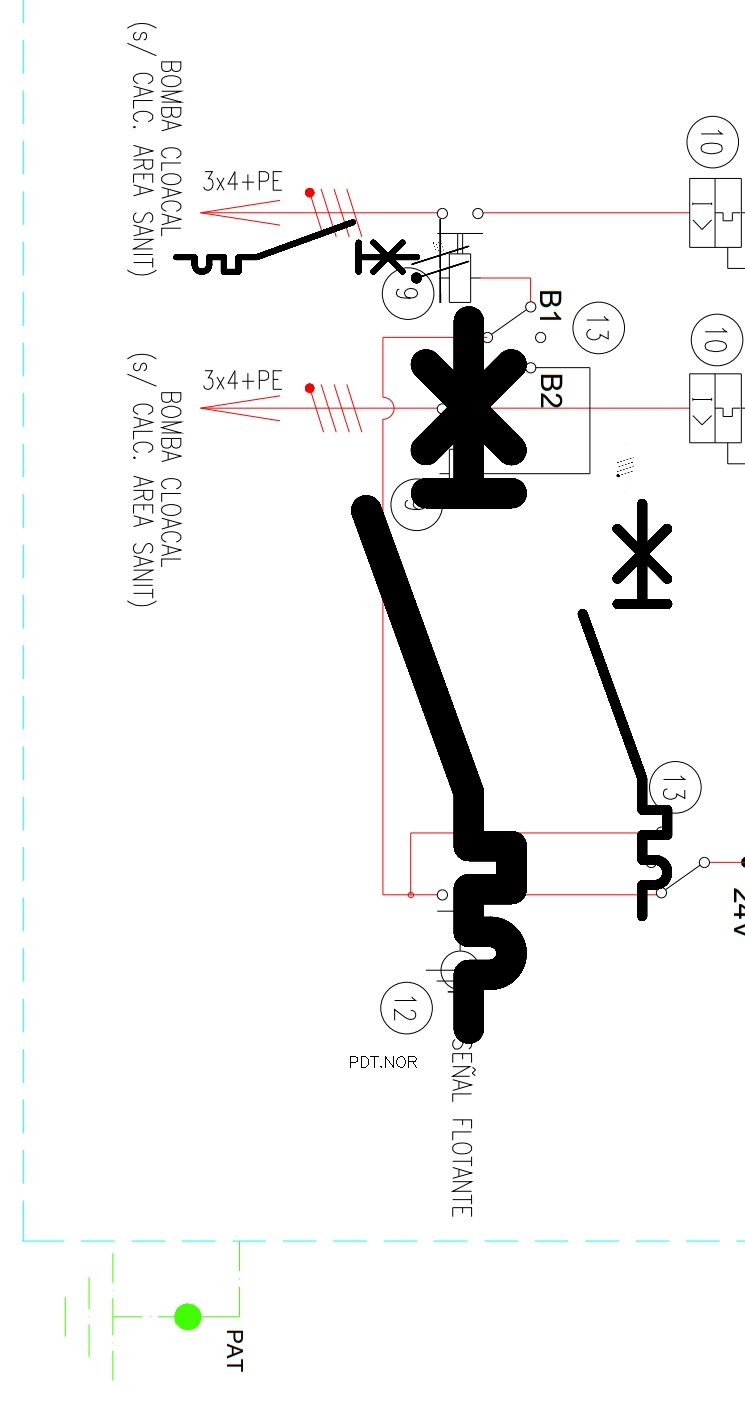interruptor_termomagnetico: (348, 303, 530, 1047), (572, 493, 678, 927), (170, 216, 423, 278)
